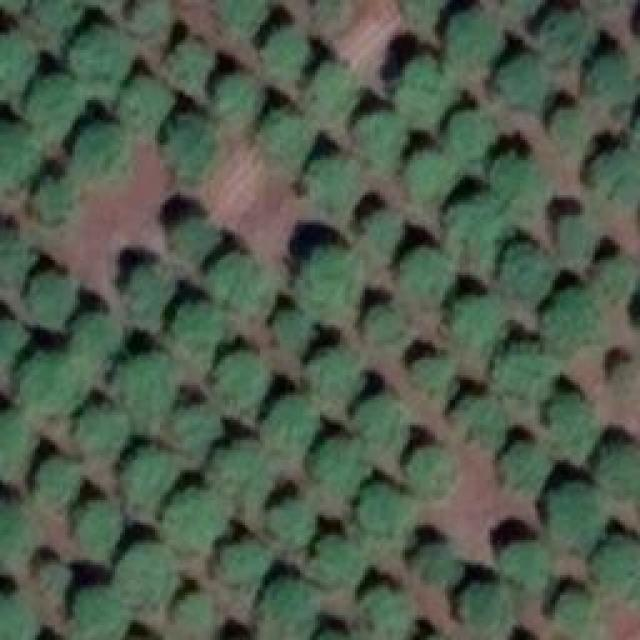Tree: (300, 243, 370, 313), (125, 445, 185, 525), (260, 395, 323, 460), (75, 122, 135, 190), (165, 120, 228, 183), (550, 480, 608, 548), (117, 550, 175, 613), (445, 193, 505, 253), (303, 153, 368, 208), (213, 350, 273, 408), (123, 265, 178, 328), (503, 238, 556, 303), (80, 22, 130, 90), (123, 73, 176, 136), (70, 403, 133, 456), (445, 8, 500, 68), (547, 390, 595, 458), (355, 103, 413, 158), (495, 50, 550, 108), (400, 250, 458, 305), (163, 495, 218, 553), (260, 582, 315, 640), (20, 360, 80, 413), (35, 75, 88, 133), (73, 497, 126, 555), (543, 302, 596, 360), (310, 350, 365, 405), (313, 435, 368, 490), (455, 390, 510, 445), (118, 360, 178, 410), (165, 215, 220, 268), (170, 303, 223, 358), (585, 255, 640, 308), (410, 445, 460, 503), (590, 537, 640, 595), (208, 458, 271, 503), (495, 345, 548, 398), (362, 485, 410, 543), (493, 153, 548, 203), (215, 538, 270, 588), (455, 288, 505, 343), (313, 533, 363, 588), (30, 268, 75, 328), (300, 63, 353, 113), (0, 124, 42, 187), (210, 250, 258, 305), (502, 533, 550, 588), (262, 498, 320, 543), (215, 73, 263, 126), (37, 453, 85, 506), (170, 405, 223, 453), (405, 148, 455, 198), (498, 438, 548, 488), (75, 318, 120, 373), (403, 55, 448, 110), (540, 8, 585, 63), (457, 580, 505, 630), (408, 538, 461, 583), (597, 145, 640, 200), (365, 585, 413, 633), (360, 305, 413, 348), (69, 597, 122, 640), (0, 495, 35, 560), (260, 110, 310, 155), (263, 25, 308, 75), (178, 592, 223, 640), (358, 395, 403, 443), (407, 353, 455, 398), (555, 585, 595, 638), (0, 30, 38, 85), (602, 438, 640, 493), (593, 50, 633, 100), (453, 110, 496, 155), (38, 175, 78, 223), (173, 35, 213, 83), (0, 412, 32, 472), (558, 208, 598, 253), (0, 227, 32, 282), (365, 210, 403, 253), (550, 105, 585, 150), (32, 558, 70, 598), (275, 308, 310, 351), (0, 592, 32, 639), (217, 0, 264, 32), (0, 317, 30, 365), (317, 0, 362, 32), (405, 0, 448, 28), (135, 0, 168, 35), (42, 0, 80, 28), (610, 358, 638, 391)
